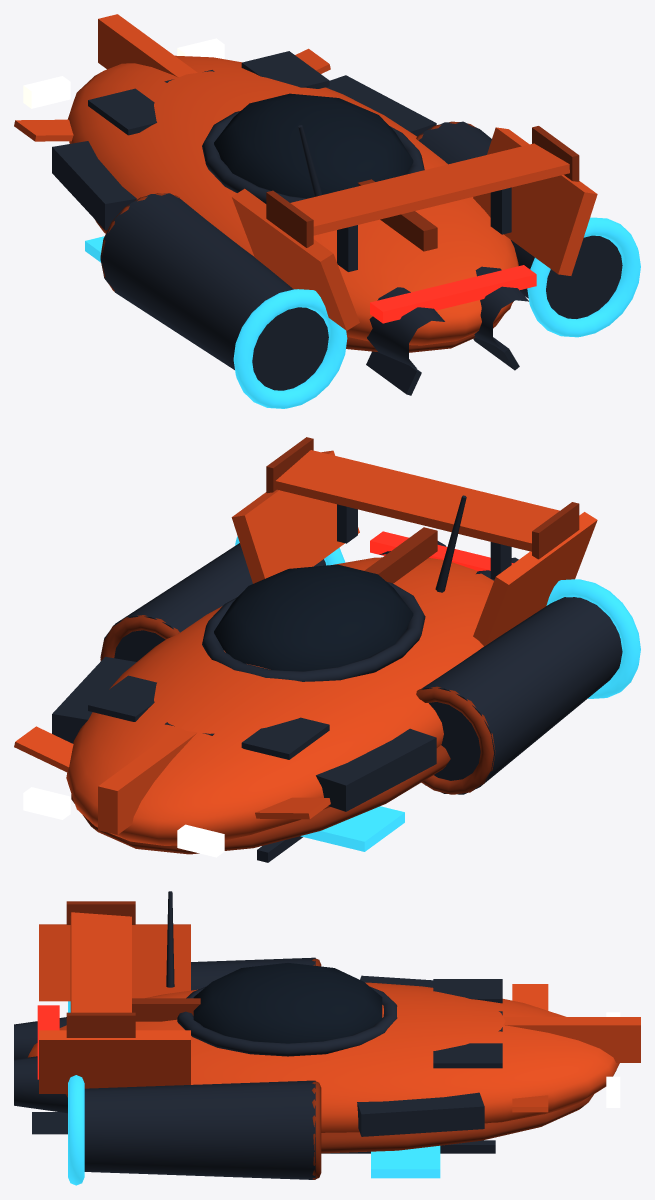
Rendered from hover-car.glb.
3 views of the same model, one above another, from view 1: azimuth 30°, elevation 25°; view 2: azimuth 150°, elevation 25°; view 3: azimuth 270°, elevation 25° (orthographic). The views are drawn at different scales.
Bounding box in the file's own units: 2.9 × 1.57 × 4.53.
